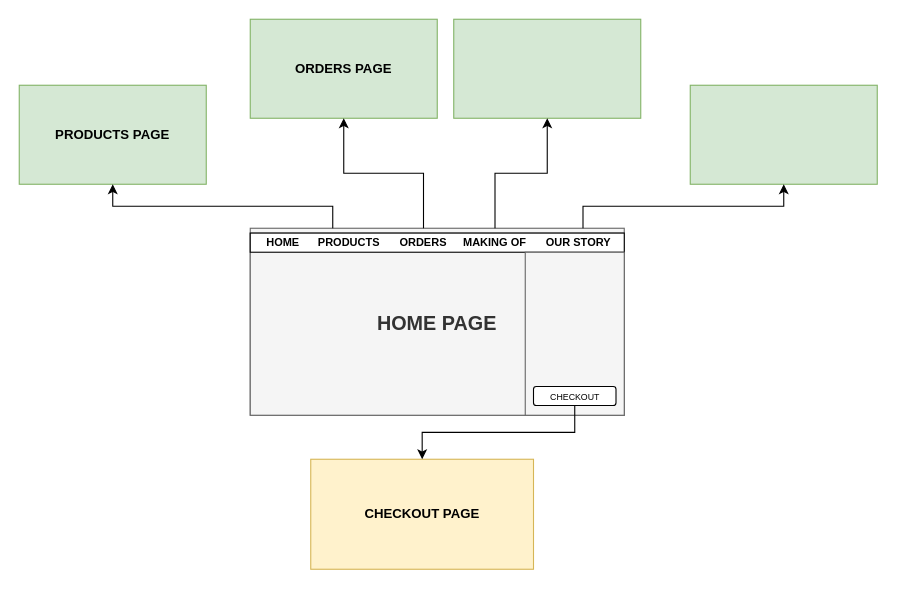
Image size: 897x589. Some labels were removed from this diagram. Each missing label, with the box of its shape:
MAKING OF PAGE: (453, 18, 641, 118)
OUR STORY PAGE: (689, 84, 877, 184)
